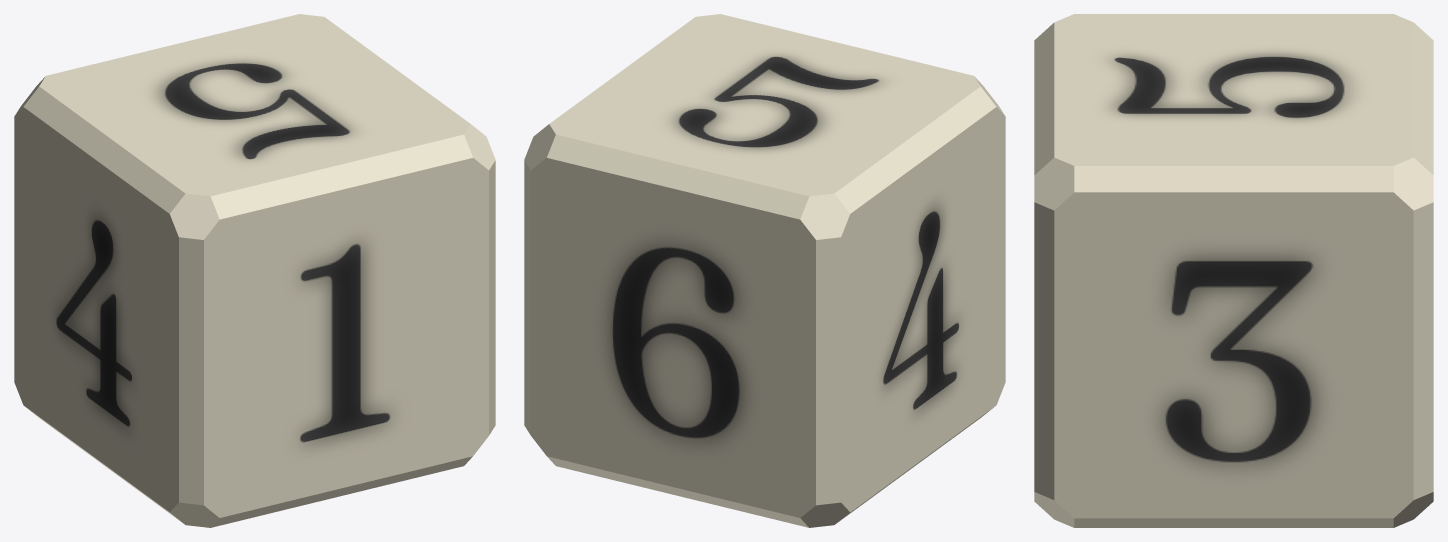
The model's file is D6PlainEmbossed.glb.
The picture shows the model from 3 angles, left to right: view 1: azimuth 30°, elevation 25°; view 2: azimuth 150°, elevation 25°; view 3: azimuth 270°, elevation 25°; orthographic projection. The views are drawn at different scales.
Visible parts, largest first — view 1: D6PlainEmbossed; view 2: D6PlainEmbossed; view 3: D6PlainEmbossed.
Part boxes in pixels (bbox=[...]): D6PlainEmbossed: bbox=[14, 14, 495, 527]; D6PlainEmbossed: bbox=[524, 14, 1005, 527]; D6PlainEmbossed: bbox=[1034, 14, 1433, 527].
Size of the model in its own units: 2 by 2 by 2.
Materials: 1 (1 with a texture image).
